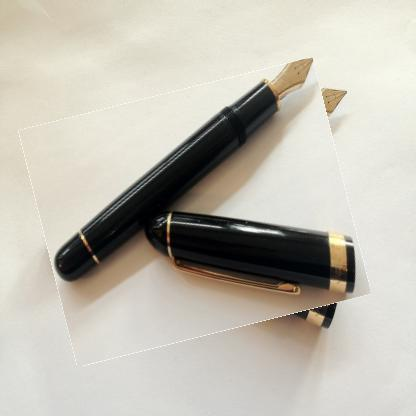Pen: (31, 73, 358, 351)
